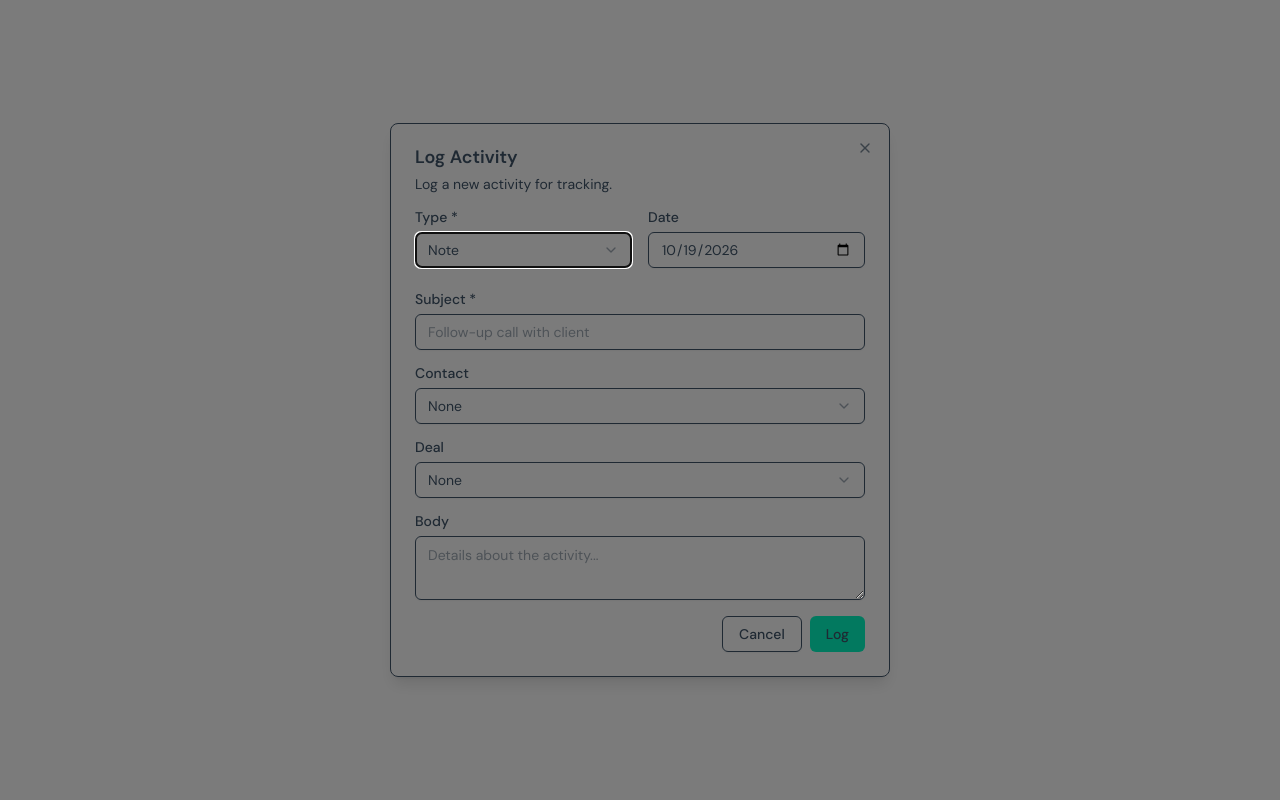
Test case: ActivityFormDialog › shows a validation error when subject is empty
The image size is (1280, 800).
Expected: the heading "Log Activity" is shown, [415,145,518,169]
Step 1. Click the button "Log" → x=837, y=634, box [810,616,865,652]
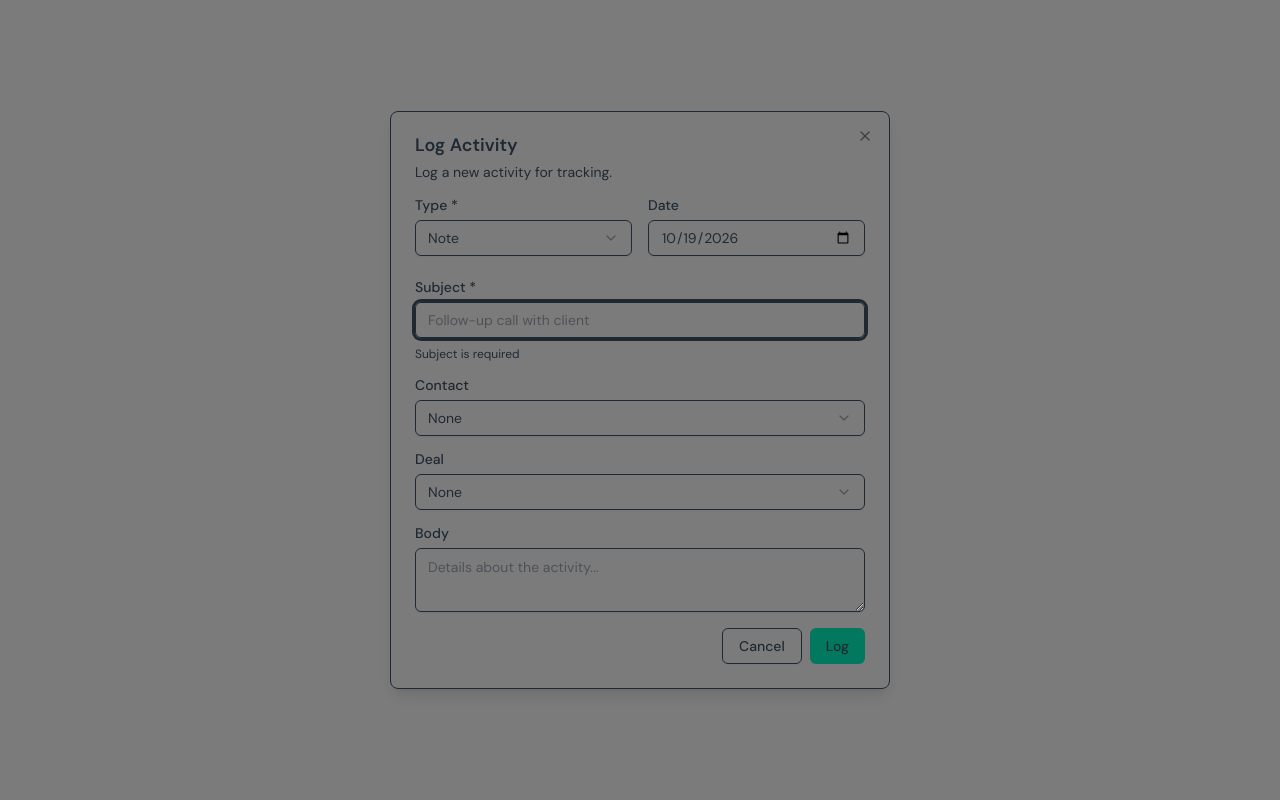
Now the text "Subject is required" is shown, box [415,346,520,362]
